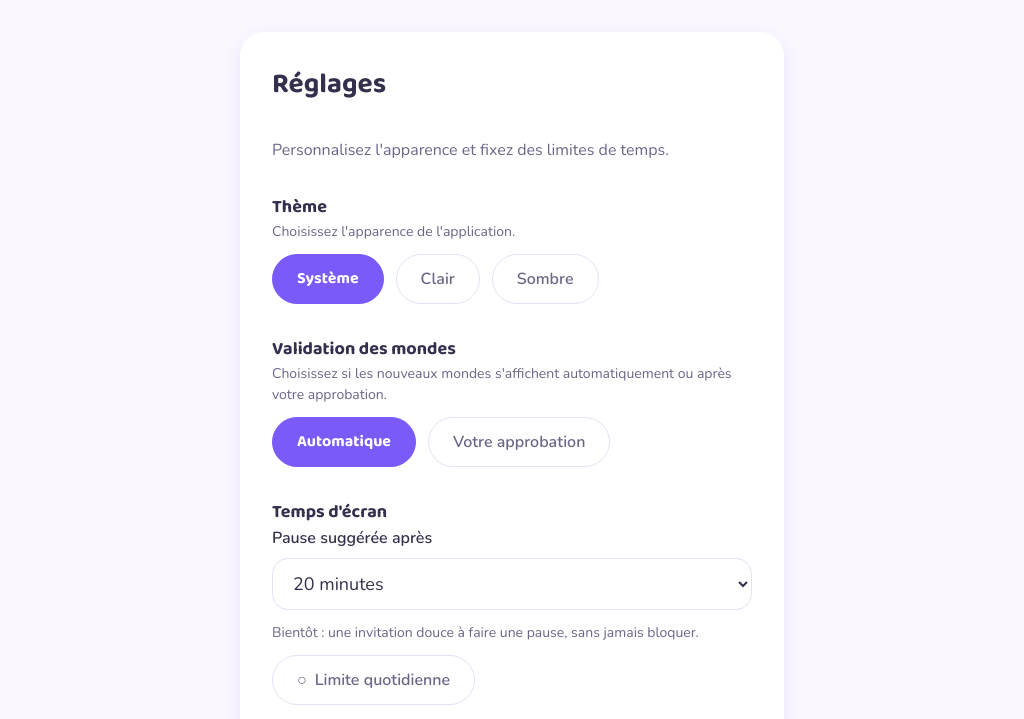
it: SettingsForm — feedback d'erreur (doublé d'icône ⚠️) › exception réseau (action throw) ⇒ role=alert message GENERIC
Click the button "Sombre".
click(545, 279)  # box 492,254 -> 599,304
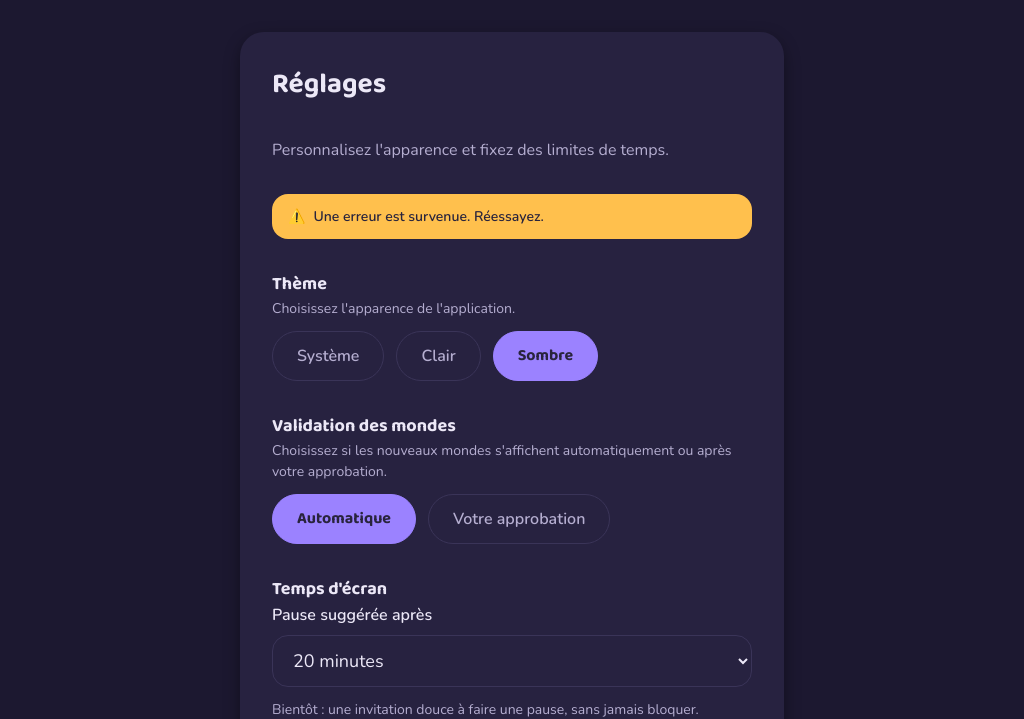
Expected: the message shows "Une erreur est survenue. Réessayez.", 314,207 -> 544,226
